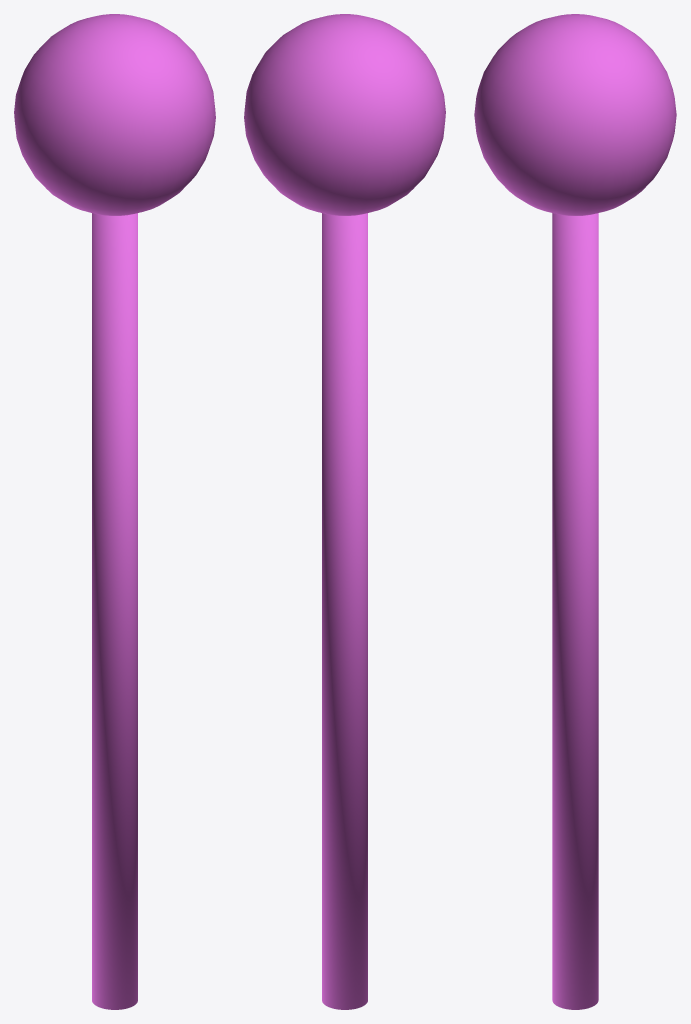
The model's file is PinForestTreeSplit2coloured.fbx.
The picture shows the model from 3 angles, left to right: view 1: azimuth 30°, elevation 25°; view 2: azimuth 150°, elevation 25°; view 3: azimuth 270°, elevation 25°; orthographic projection.
Visible parts, largest first — view 1: Cylinder; view 2: Cylinder; view 3: Cylinder.
Boxes of the visible parts, box(x1,y1,x2,y2) form: Cylinder: box(14, 14, 215, 1009); Cylinder: box(244, 14, 445, 1009); Cylinder: box(474, 14, 676, 1009).
Bounding box in the file's own units: 67.62 × 360 × 67.62.
